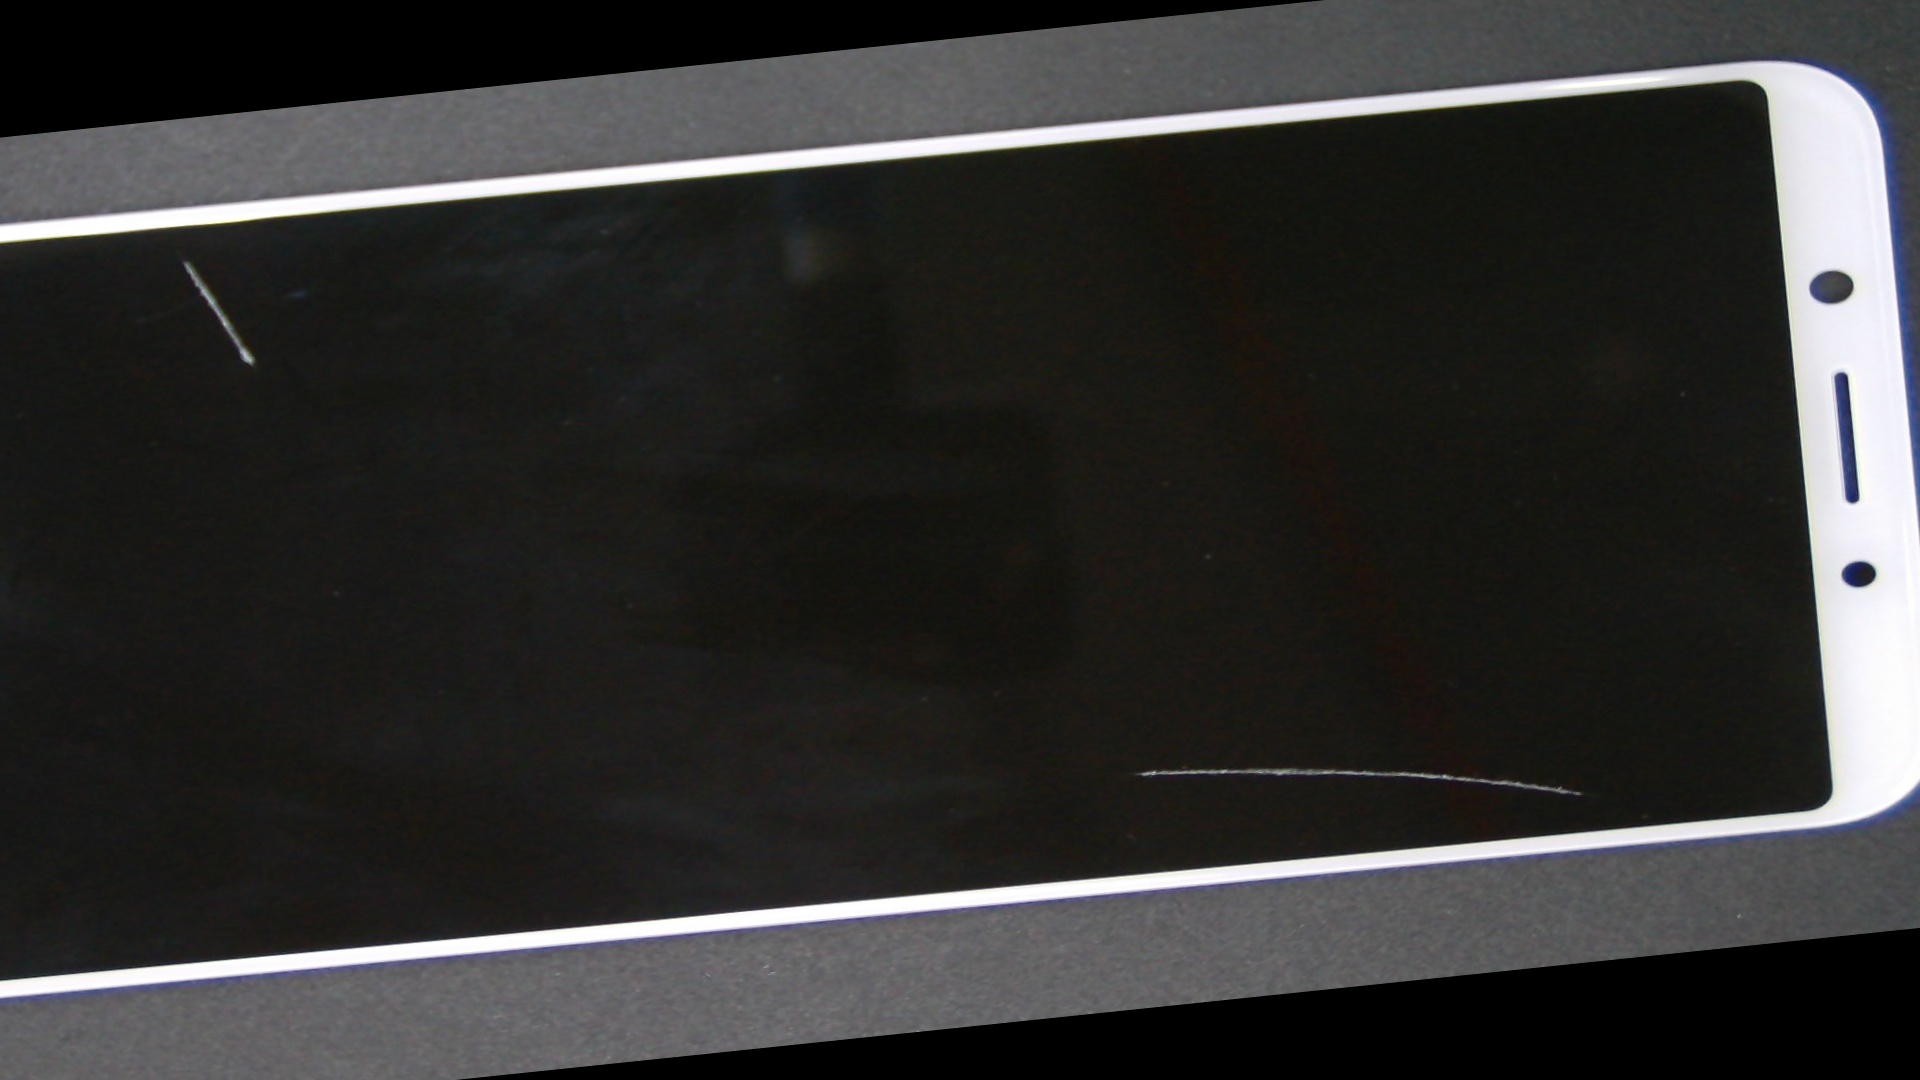oil: (419, 326, 1871, 1077), (0, 165, 433, 355)
